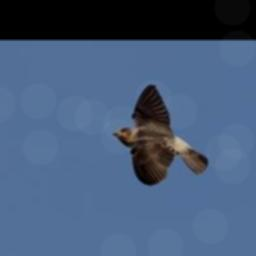Swallow: (109, 82, 211, 187)
